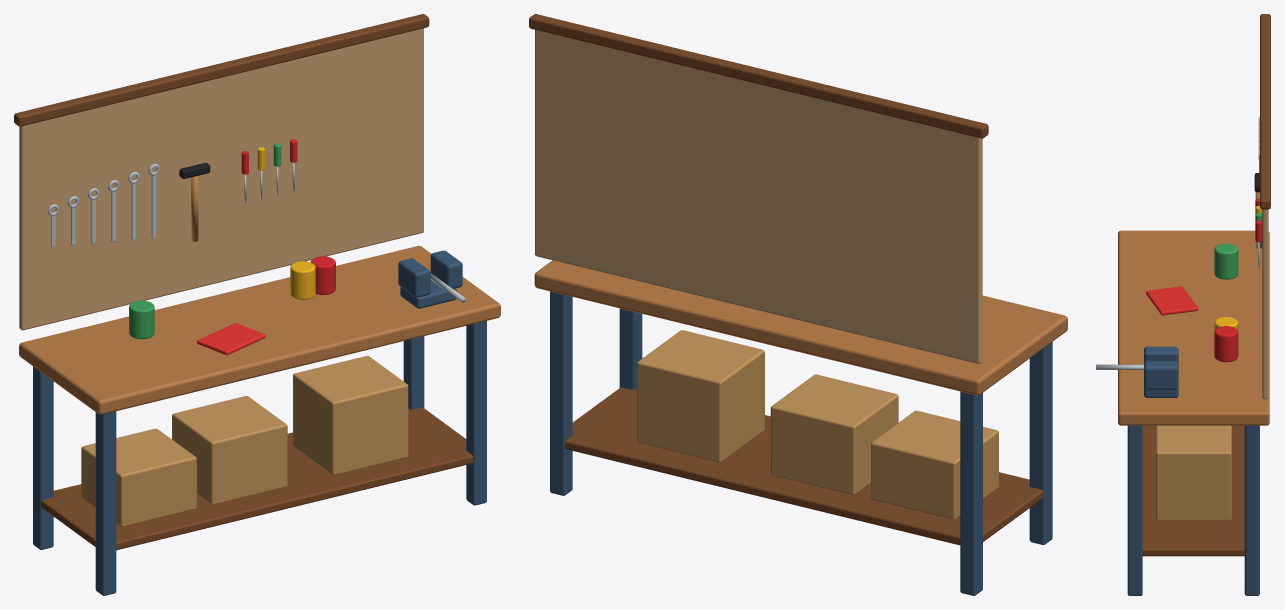
The model's file is workbench.glb.
3 renders of one model, left to right at view 1: azimuth 30°, elevation 25°; view 2: azimuth 150°, elevation 25°; view 3: azimuth 270°, elevation 25°, orthographic. The views are drawn at different scales.
Visible parts, largest first — view 1: Pegboard, Top, Shelf, ShelfBox.002, ShelfBox.001, ShelfBox, PegFrame, Leg, Leg.002, Leg.001, Leg.003, Rag (+6 smaller); view 2: Pegboard, Top, Shelf, ShelfBox.002, ShelfBox.001, ShelfBox, PegFrame, Leg.001, Leg.003, Leg, Leg.002; view 3: Top, ShelfBox.002, Shelf, Leg.002, Leg.003, PegFrame, Pegboard, Rag, ViseJaw2, Can.001, Can.002, ViseJaw (+2 smaller).
Part boxes in pixels (<box>): Pegboard: <box>19,28,423,330</box>; Top: <box>19,245,500,414</box>; Shelf: <box>41,407,473,550</box>; ShelfBox.002: <box>293,355,408,475</box>; ShelfBox.001: <box>172,396,287,504</box>; ShelfBox: <box>81,428,196,526</box>; PegFrame: <box>14,14,429,126</box>; Leg: <box>95,411,116,595</box>; Leg.002: <box>466,321,486,505</box>; Leg.001: <box>33,366,53,549</box>; Leg.003: <box>403,336,424,409</box>; Rag: <box>197,323,265,355</box>; Pegboard: <box>535,30,982,364</box>; Top: <box>534,260,1067,395</box>; Shelf: <box>565,387,1043,545</box>; ShelfBox.002: <box>637,330,764,462</box>; ShelfBox.001: <box>770,374,898,494</box>; ShelfBox: <box>871,410,998,519</box>; PegFrame: <box>529,14,988,138</box>; Leg.001: <box>960,391,982,595</box>; Leg.003: <box>550,291,572,495</box>; Leg: <box>1029,342,1052,544</box>; Leg.002: <box>619,308,642,389</box>; Top: <box>1118,230,1269,425</box>; ShelfBox.002: <box>1155,425,1231,520</box>; Shelf: <box>1142,425,1244,556</box>; Leg.002: <box>1127,425,1142,595</box>; Leg.003: <box>1244,425,1259,595</box>; PegFrame: <box>1260,14,1270,209</box>; Pegboard: <box>1262,209,1268,399</box>; Rag: <box>1146,286,1198,315</box>; ViseJaw2: <box>1144,361,1178,389</box>; Can.001: <box>1214,326,1238,362</box>; Can.002: <box>1214,243,1238,279</box>; ViseJaw: <box>1144,346,1178,363</box>.
Size of the model in its own units: 2.04 by 2.04 by 0.805.
